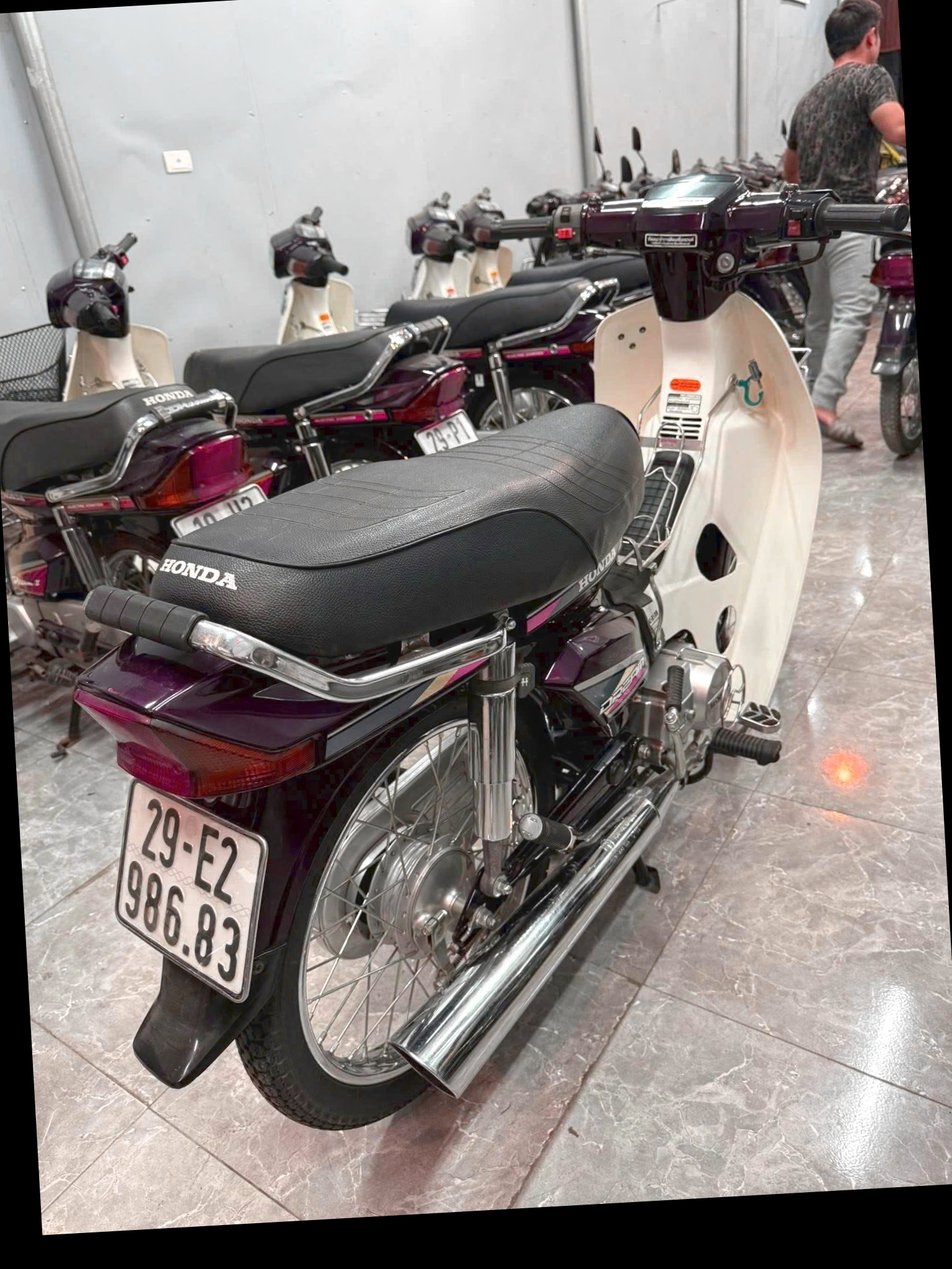Bien-so: (86, 769, 262, 1019), (209, 480, 311, 536), (458, 435, 530, 490)
